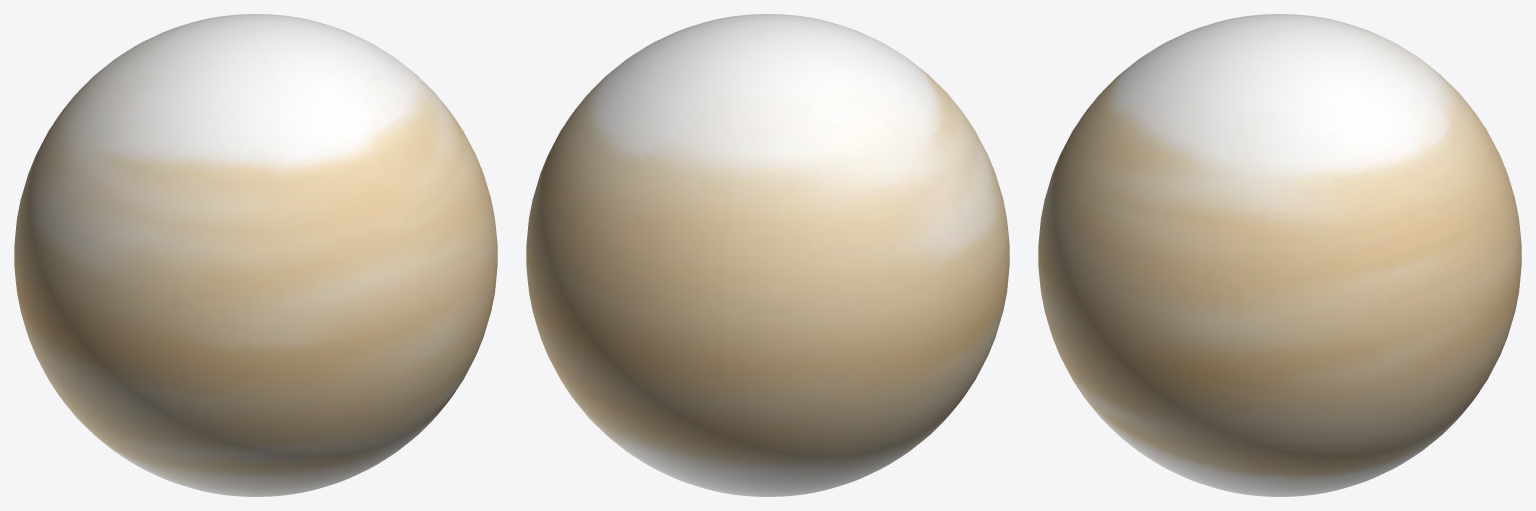
File: nasaVenus-transformed.glb
The picture shows the model from 3 angles, left to right: view 1: azimuth 30°, elevation 25°; view 2: azimuth 150°, elevation 25°; view 3: azimuth 270°, elevation 25°; orthographic projection.
Visible parts, largest first — view 1: cylindrically_mapped_sphere:Mesh; view 2: cylindrically_mapped_sphere:Mesh; view 3: cylindrically_mapped_sphere:Mesh.
Boxes of the visible parts, box(x1,y1,x2,y2) form: cylindrically_mapped_sphere:Mesh: box(14, 14, 497, 496); cylindrically_mapped_sphere:Mesh: box(526, 14, 1009, 496); cylindrically_mapped_sphere:Mesh: box(1038, 14, 1521, 496).
Bounding box in the file's own units: 1000 × 1000 × 1000.
1 material, 1 textured.
